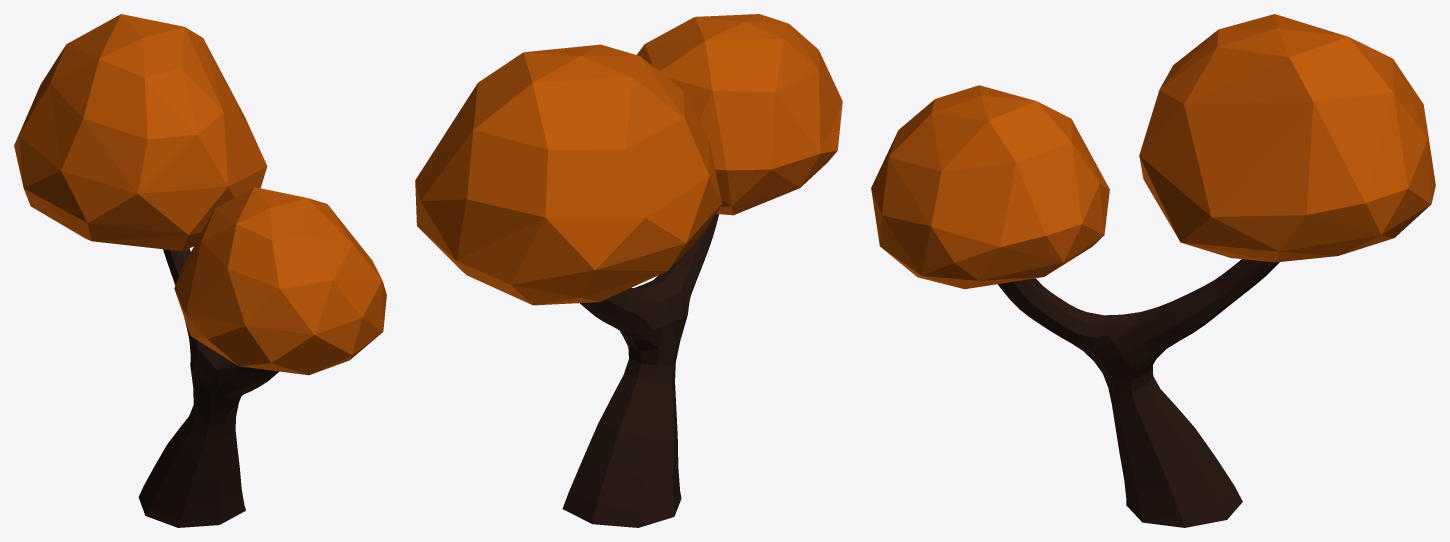
The model's file is Tree_02.fbx.
3 renders of one model, left to right at view 1: azimuth 30°, elevation 25°; view 2: azimuth 150°, elevation 25°; view 3: azimuth 270°, elevation 25°, orthographic. The views are drawn at different scales.
Visible parts, largest first — view 1: Tree_02; view 2: Tree_02; view 3: Tree_02.
Part boxes in pixels (left/top/right/bottom): Tree_02: left=14, top=14, right=386, bottom=527; Tree_02: left=415, top=14, right=842, bottom=527; Tree_02: left=871, top=14, right=1435, bottom=527.
Bounding box in the file's own units: 236 × 447 × 481.
